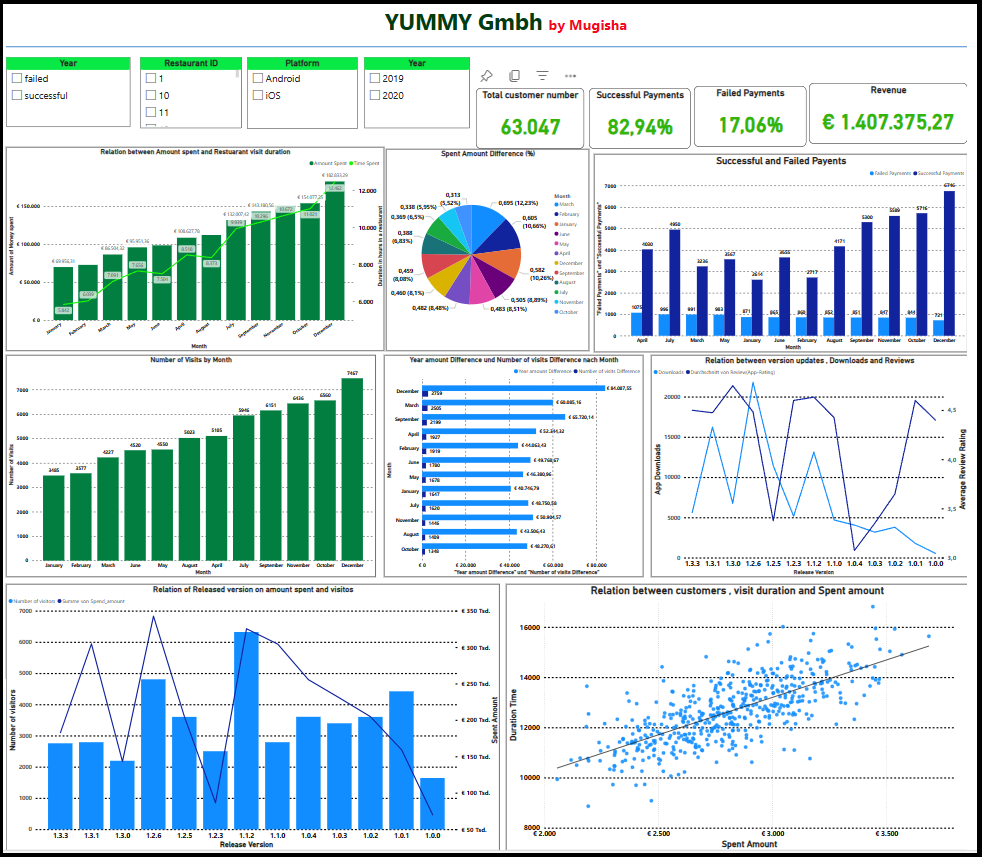

This screenshot's page, from the dashboard's own definition file:
{"tool":"powerbi","page":{"name":"YUMMY DASHBOARD","canvas":[2500,2199],"ordinal":0},"visuals":[{"type":"textbox","box":[0,0,2599.5,87.5],"z":0},{"type":"slicer","title":"Year ","fields":{"Values":["VS.Year"]},"box":[930,139,274.5,185.3],"z":1000},{"type":"lineClusteredColumnComboChart","title":"Relation between Amount spent and Restuarant visit duration ","fields":{"Category":["application.Month"],"Y":["Sum(VS.Spend_amount)"],"Y2":["VS.VisitD_Hours"]},"box":[0,370.6,983.2,530.2],"z":2000},{"type":"clusteredColumnChart","title":"Number of Visits by Month","fields":{"Category":["application.Month"],"Y":["VS.NumberVisits"]},"box":[0,912.8,960.9,576.5],"z":3000},{"type":"clusteredBarChart","fields":{"Category":["VS.Month"],"Y":["VS.DiffSalesYears","VS.DNumberVisitors"]},"box":[983.2,912.8,674.3,576.5],"z":4000},{"type":"pieChart","title":"Spent Amount Difference (%) ","fields":{"Category":["application.Month"],"Y":["VS.PercentageDSales"]},"box":[986.6,375.8,528.5,525.1],"z":5000},{"type":"slicer","title":"Restaurant ID ","fields":{"Values":["VS.Restaurant_id"]},"box":[348.3,137.3,264.2,185.3],"z":6000},{"type":"card","title":"Successful Payments ","fields":{"Values":["application.SuccesfulP%"]},"box":[1515.1,217.9,264.2,157.9],"z":7000},{"type":"card","title":"Failed Payments ","fields":{"Values":["application.FailedP%"]},"box":[1787.9,212.8,291.7,157.9],"z":8000},{"type":"clusteredColumnChart","title":"Successful and Failed Payents","fields":{"Category":["application.Month"],"Y":["application.PSF","application.PSS"]},"box":[1528.8,389.5,971.2,514.8],"z":9000},{"type":"slicer","title":"Platform ","fields":{"Values":["application.Platform"]},"box":[626.3,137.3,286.5,187],"z":10000},{"type":"lineChart","title":"Relation between version updates , Downloads and Reviews","fields":{"Category":["application.Release_version(feature)"],"Y":["Sum(application.Download)"],"Y2":["Avg(application.Review(App-Rating))"]},"box":[1676.4,912.8,823.6,576.5],"z":11000},{"type":"lineClusteredColumnComboChart","title":"Relation of Released version on amount spent and visitos ","fields":{"Category":["application.Release_version(feature)"],"Y":["VS.DNumberVisitors"],"Y2":["Sum(VS.Spend_amount)"]},"box":[0,1506.5,1283.5,693.2],"z":12000},{"type":"slicer","title":"Year ","fields":{"Values":["VS.Payment_status"]},"box":[0,137.3,322.6,181.9],"z":13000},{"type":"scatterChart","title":"Relation between customers , visit duration and Spent amount ","fields":{"Category":["VS.Username"],"X":["Sum(VS.Spend_amount)"],"Y":["Sum(VS.Visit_Duration)"]},"box":[1298.9,1506.5,1201.1,693.2],"z":14000},{"type":"shape","box":[0,42.9,2500,133.8],"z":15000},{"type":"card","title":"Revenue","fields":{"Values":["Sum(VS.Spend_amount)"]},"box":[2088.2,205.9,411.8,157.9],"z":16000},{"type":"card","title":"Total customer number","fields":{"Values":["VS.Total clients"]},"box":[1221.7,217.9,281.4,157.9],"z":17000}]}

Visuals, with their boxes in screenshot pixels (x1, y1, x2, y2), scaled from the page's 2500x2199 canvas onto the 982x857 screenshot:
textbox: x1=0 y1=0 x2=981 y2=34
"Year " slicer: x1=365 y1=54 x2=473 y2=126
"Relation between Amount spent and Restuarant visit duration " lineClusteredColumnComboChart: x1=0 y1=144 x2=386 y2=351
"Number of Visits by Month" clusteredColumnChart: x1=0 y1=356 x2=377 y2=580
clusteredBarChart - VS.Month x VS.DiffSalesYears: x1=386 y1=356 x2=651 y2=580
"Spent Amount Difference (%) " pieChart: x1=388 y1=146 x2=595 y2=351
"Restaurant ID " slicer: x1=137 y1=54 x2=241 y2=126
"Successful Payments " card: x1=595 y1=85 x2=699 y2=146
"Failed Payments " card: x1=702 y1=83 x2=817 y2=144
"Successful and Failed Payents" clusteredColumnChart: x1=601 y1=152 x2=981 y2=352
"Platform " slicer: x1=246 y1=54 x2=359 y2=126
"Relation between version updates , Downloads and Reviews" lineChart: x1=658 y1=356 x2=981 y2=580
"Relation of Released version on amount spent and visitos " lineClusteredColumnComboChart: x1=0 y1=587 x2=504 y2=856
"Year " slicer: x1=0 y1=54 x2=127 y2=124
"Relation between customers , visit duration and Spent amount " scatterChart: x1=510 y1=587 x2=981 y2=856
shape: x1=0 y1=17 x2=981 y2=69
"Revenue" card: x1=820 y1=80 x2=981 y2=142
"Total customer number" card: x1=480 y1=85 x2=590 y2=146
